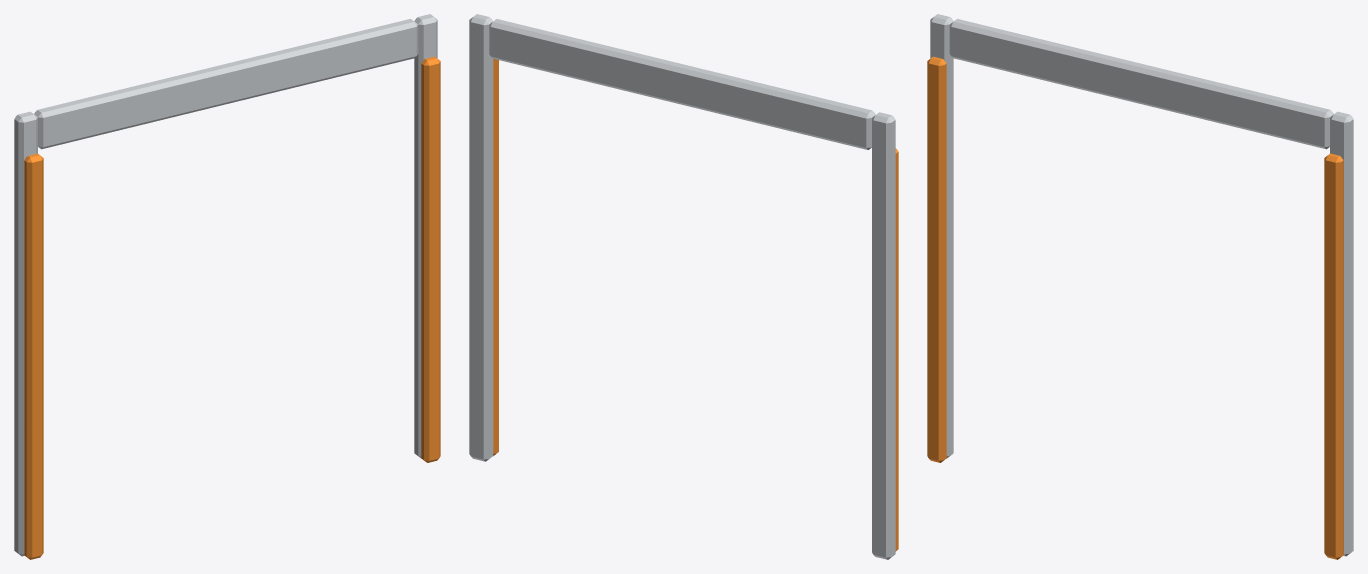
File: base-GarageFrame.fbx
3 views of the same model, side by side, from view 1: azimuth 30°, elevation 25°; view 2: azimuth 150°, elevation 25°; view 3: azimuth 330°, elevation 25° (orthographic).
Parts seen in each view (by area): view 1: base-GarageFrame_Header.001, base-GarageFrame_Seal.002, base-GarageFrame_Seal.003, base-GarageFrame_Jamb.002, base-GarageFrame_Jamb.003; view 2: base-GarageFrame_Header.001, base-GarageFrame_Jamb.003, base-GarageFrame_Jamb.002, base-GarageFrame_Seal.003, base-GarageFrame_Seal.002; view 3: base-GarageFrame_Header.001, base-GarageFrame_Seal.003, base-GarageFrame_Seal.002, base-GarageFrame_Jamb.003, base-GarageFrame_Jamb.002.
Boxes of the visible parts, <box> form: base-GarageFrame_Header.001: <box>34,19,418,149</box>; base-GarageFrame_Seal.002: <box>24,153,43,559</box>; base-GarageFrame_Seal.003: <box>421,56,440,462</box>; base-GarageFrame_Jamb.002: <box>14,111,37,556</box>; base-GarageFrame_Jamb.003: <box>414,14,437,458</box>; base-GarageFrame_Header.001: <box>489,19,875,149</box>; base-GarageFrame_Jamb.003: <box>469,14,493,461</box>; base-GarageFrame_Jamb.002: <box>872,112,895,559</box>; base-GarageFrame_Seal.003: <box>493,59,498,455</box>; base-GarageFrame_Seal.002: <box>895,148,898,551</box>; base-GarageFrame_Header.001: <box>949,19,1333,149</box>; base-GarageFrame_Seal.003: <box>1324,153,1343,559</box>; base-GarageFrame_Seal.002: <box>927,56,946,462</box>; base-GarageFrame_Jamb.003: <box>1330,111,1353,556</box>; base-GarageFrame_Jamb.002: <box>930,14,953,458</box>.
Size of the model in its own units: 300 by 300 by 17.
